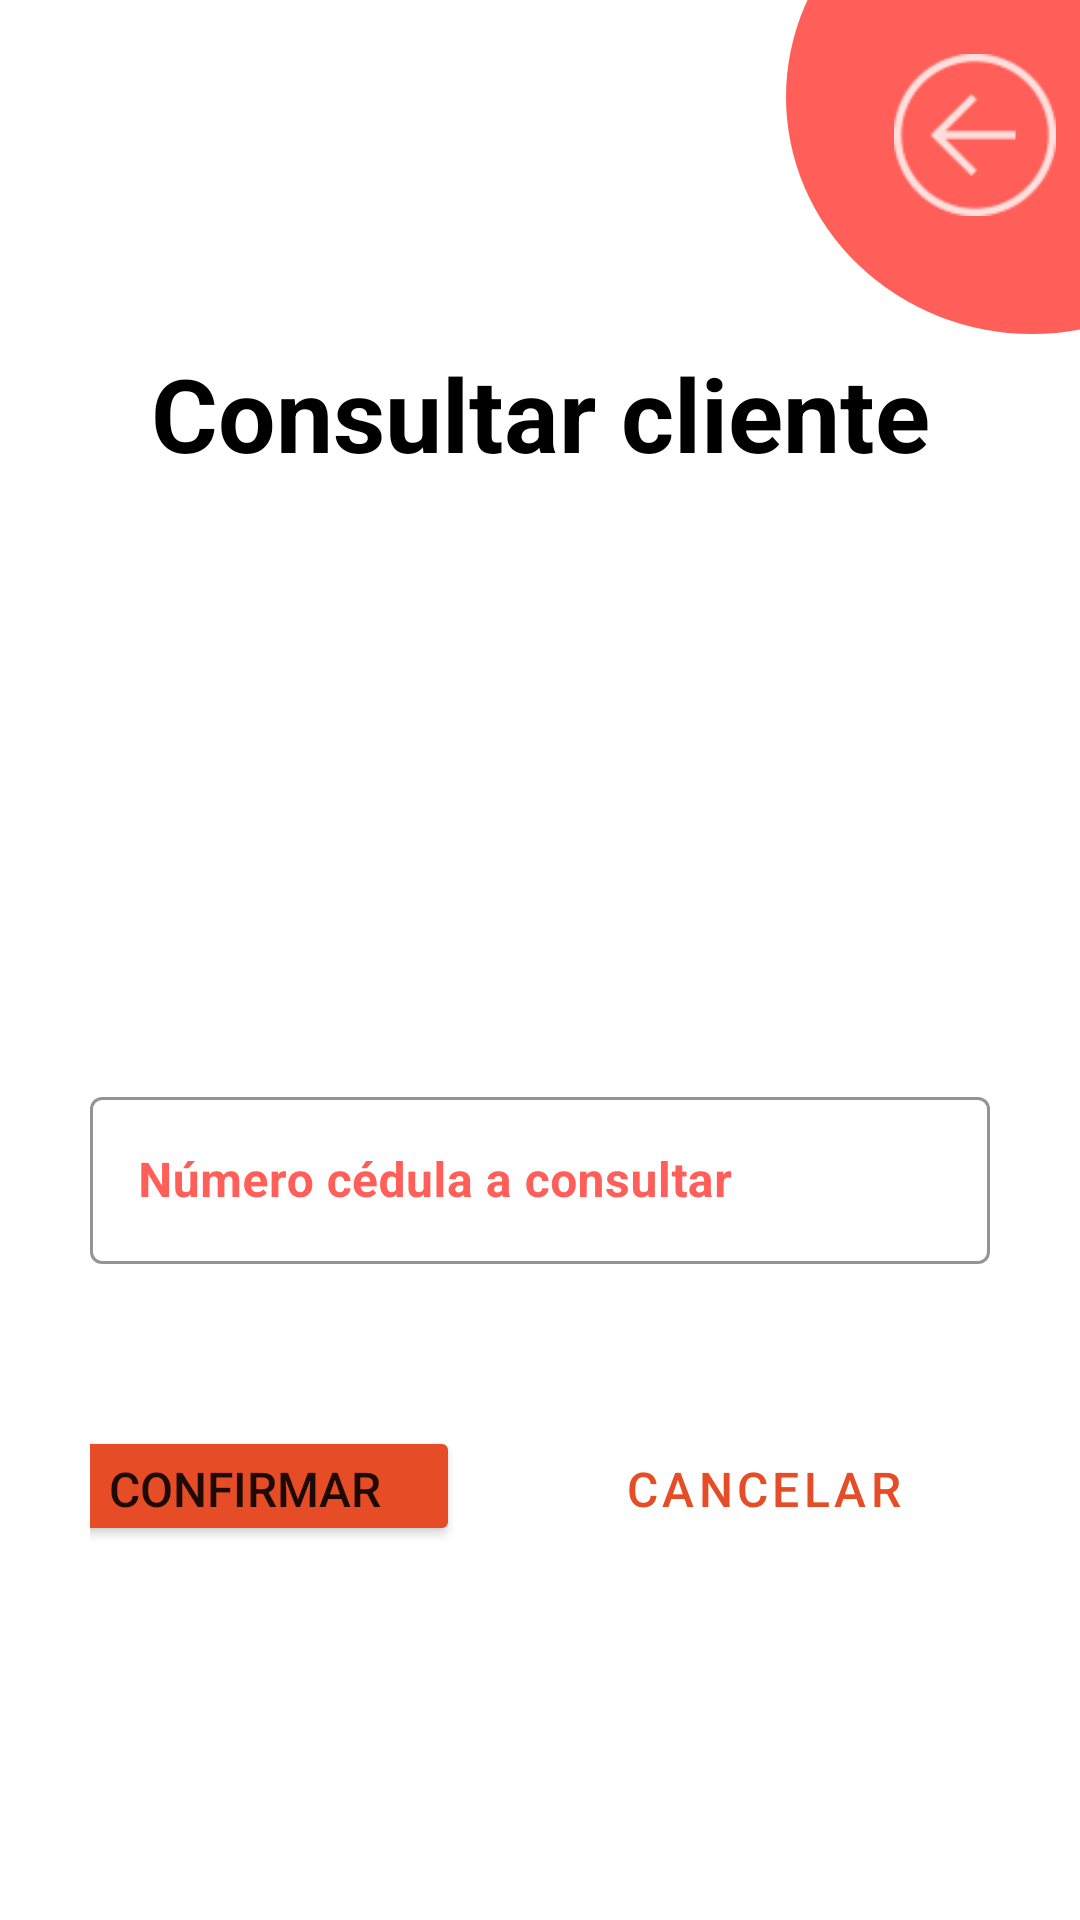

Icon bounding boxes for this 1080*1920 phone screenshot, format {"x1": x1, "y1": y1, "x2": x2, "y2": y2}:
arrowback: {"x1": 894, "y1": 54, "x2": 1056, "y2": 216}
